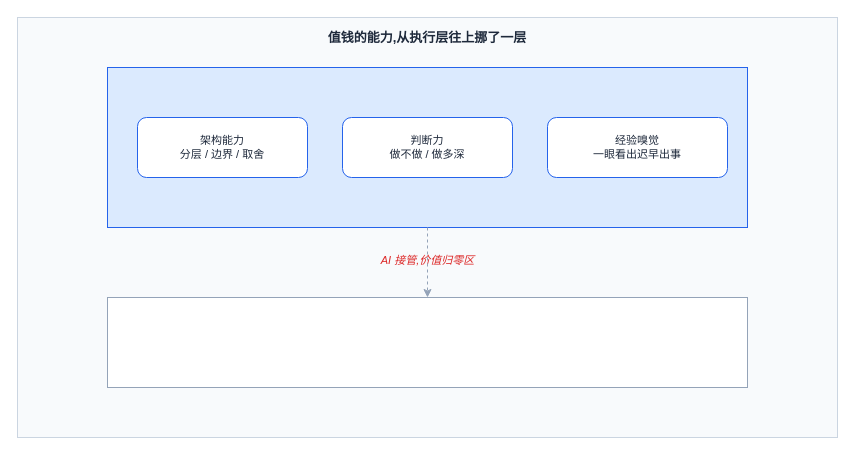
The diagram is 855 pixels wide and 455 high, and some of its shapes have lost their labels. The box of each missing label's shape, as (x1, y1, x2, y2) in pixels:
决策层 · AI 吃不掉: (106, 66, 748, 228)
执行层 · 被 AI 削平(语法 / API / 框架用法,过去的护城河): (106, 296, 748, 388)
